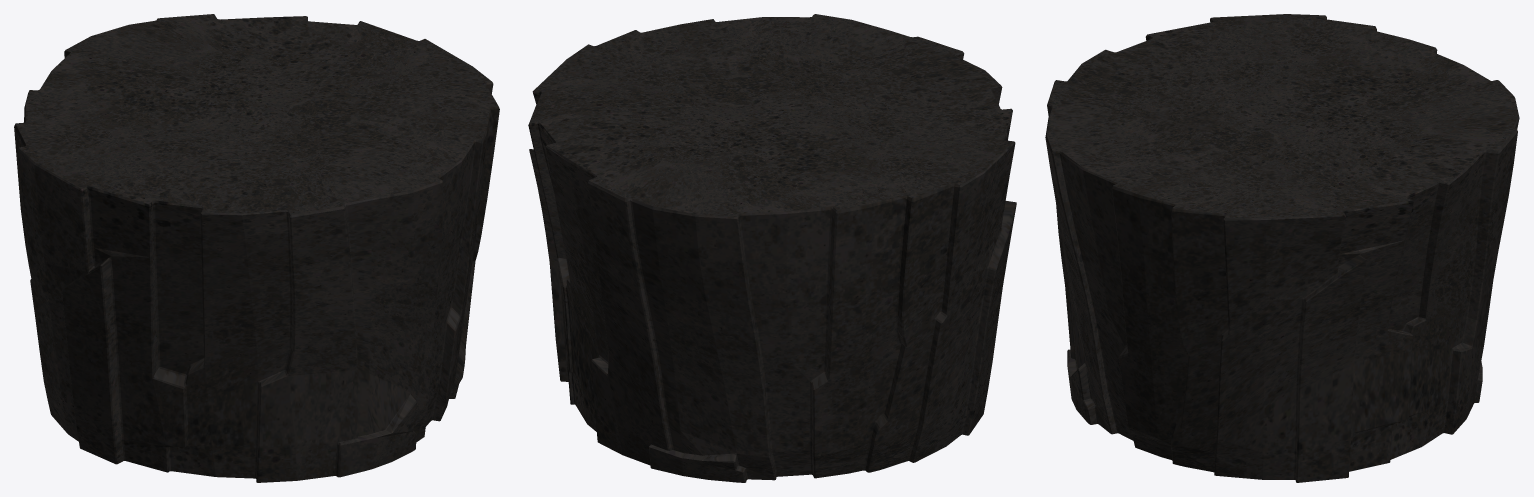
Rendered from RockCylinderL02.fbx.
3 renders of one model, left to right at view 1: azimuth 30°, elevation 25°; view 2: azimuth 150°, elevation 25°; view 3: azimuth 270°, elevation 25°, orthographic. The views are drawn at different scales.
Parts seen in each view (by area): view 1: SM_ENV_NATURE_Cave_RockCylinder_L_02.mo; view 2: SM_ENV_NATURE_Cave_RockCylinder_L_02.mo; view 3: SM_ENV_NATURE_Cave_RockCylinder_L_02.mo.
Part boxes in pixels (<box>): SM_ENV_NATURE_Cave_RockCylinder_L_02.mo: <box>14,14,499,482</box>; SM_ENV_NATURE_Cave_RockCylinder_L_02.mo: <box>528,14,1016,482</box>; SM_ENV_NATURE_Cave_RockCylinder_L_02.mo: <box>1045,14,1519,482</box>.
Size of the model in its own units: 637 by 400 by 622.
1 material, 1 textured.
